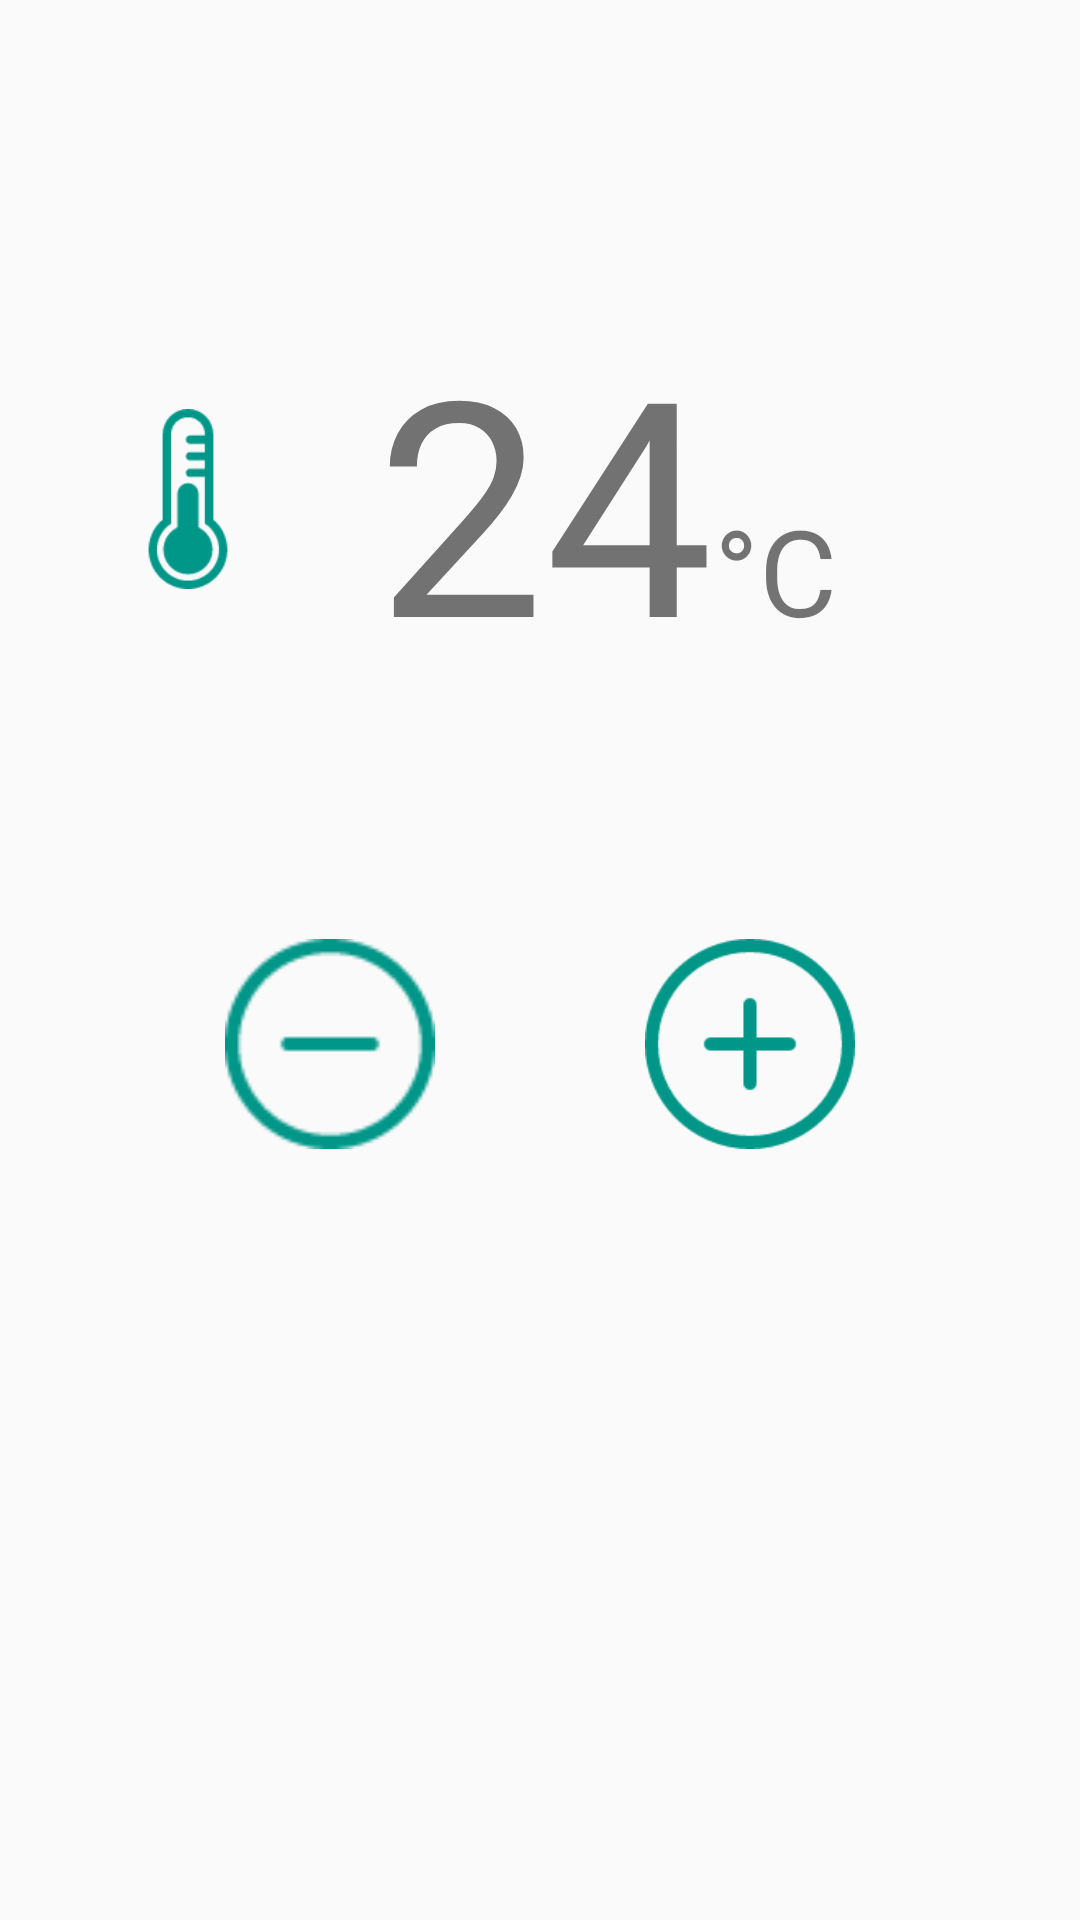

Icon bounding boxes for this 1080 × 1920 phone screenshot, format (x1, y1, x2, y2):
thermometer: (148, 409, 228, 589)
